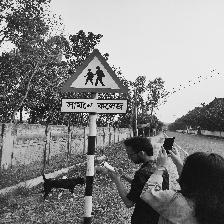College-in-front: (52, 46, 137, 124)
